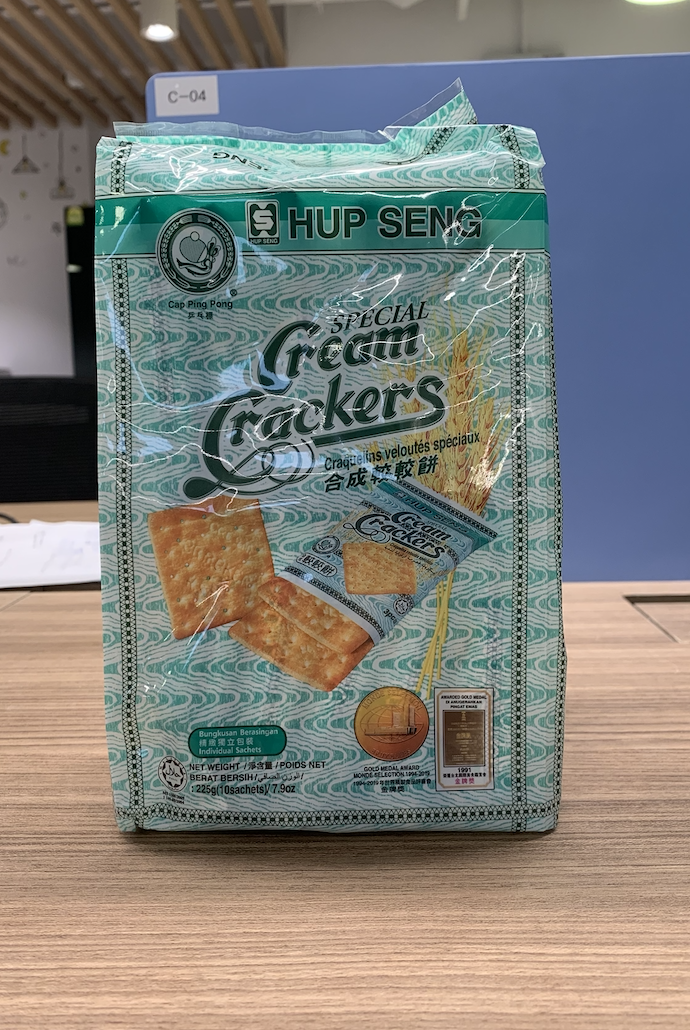halal: (160, 761, 184, 787)
